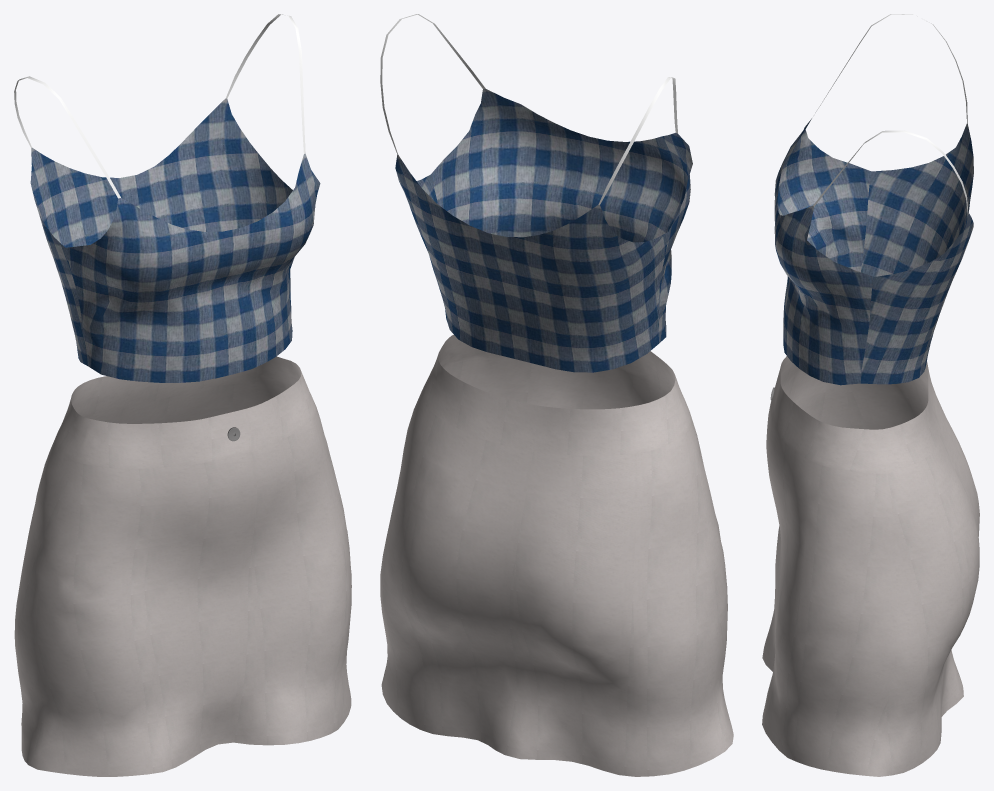
Rendered from coordi49.fbx.
3 views of the same model, side by side, from view 1: azimuth 30°, elevation 25°; view 2: azimuth 150°, elevation 25°; view 3: azimuth 270°, elevation 25° (orthographic). The views are drawn at different scales.
Visible parts, largest first — view 1: coordi49; view 2: coordi49; view 3: coordi49.
Part boxes in pixels (x1=…): coordi49: x1=14, y1=14, x2=351, y2=776; coordi49: x1=380, y1=14, x2=733, y2=776; coordi49: x1=762, y1=14, x2=979, y2=776.
Size of the model in its own units: 392 by 778 by 241.
4 materials, 2 textured.
